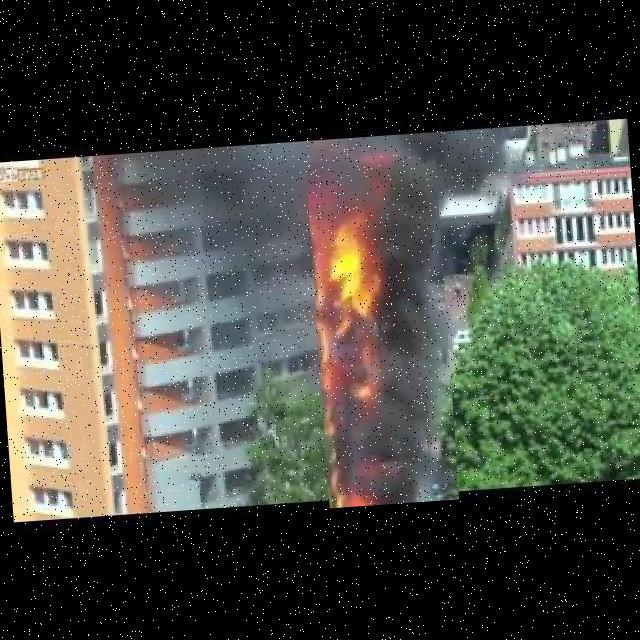fire: (305, 153, 459, 508)
